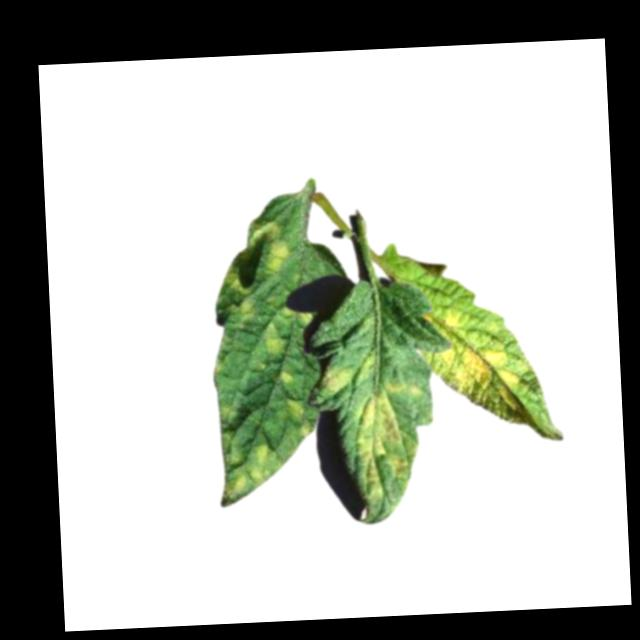Leaf_Mold: (420, 305, 523, 430), (352, 380, 427, 500), (212, 444, 282, 503), (241, 216, 287, 275), (220, 269, 254, 322), (317, 361, 353, 396), (284, 395, 311, 440), (258, 324, 287, 359)
